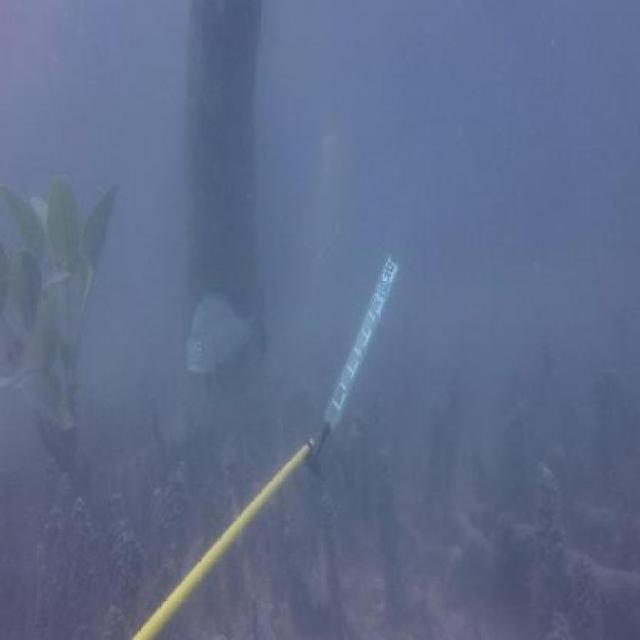Caranx: (0, 299, 75, 438)
acanthopagrus_palmaris: (183, 282, 271, 388)
